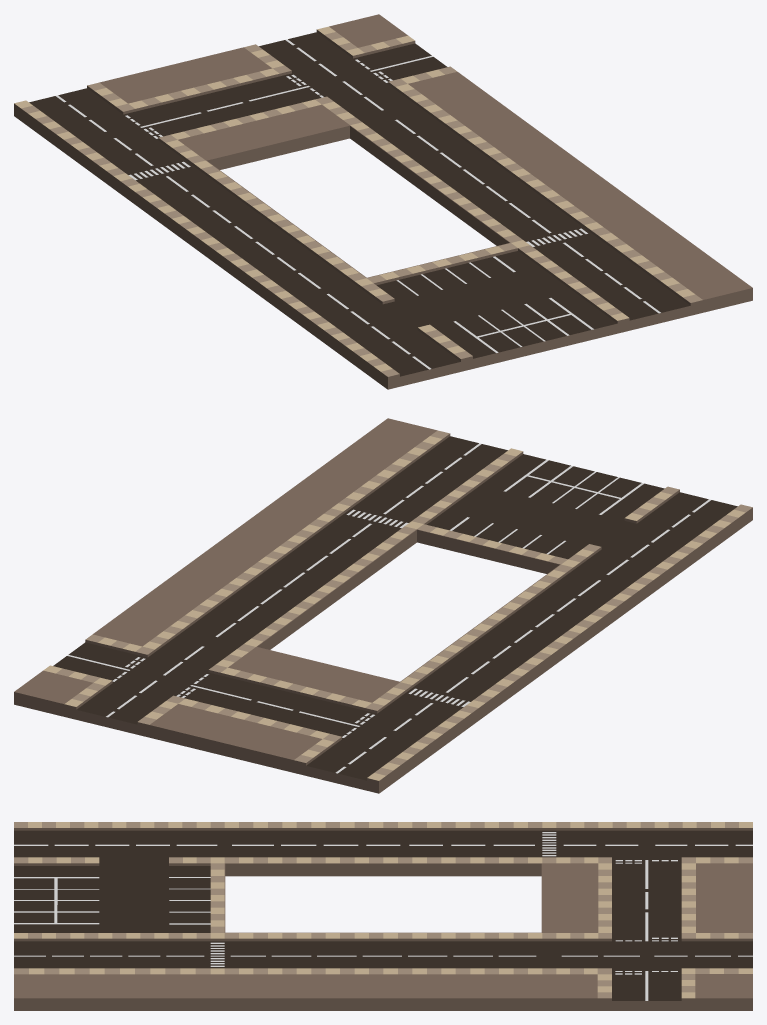
Rendered from World1Background.fbx.
The picture shows the model from 3 angles, top to bottom: view 1: azimuth 30°, elevation 25°; view 2: azimuth 150°, elevation 25°; view 3: azimuth 270°, elevation 25°; orthographic projection.
Visible parts, largest first — view 1: Cube.001; view 2: Cube.001; view 3: Cube.001.
Part boxes in pixels (x1,y1,x2,y2): Cube.001: (14, 14, 752, 389); Cube.001: (14, 418, 752, 793); Cube.001: (14, 822, 752, 1010).
Bounding box in the file's own units: 5991 × 200 × 10623.
